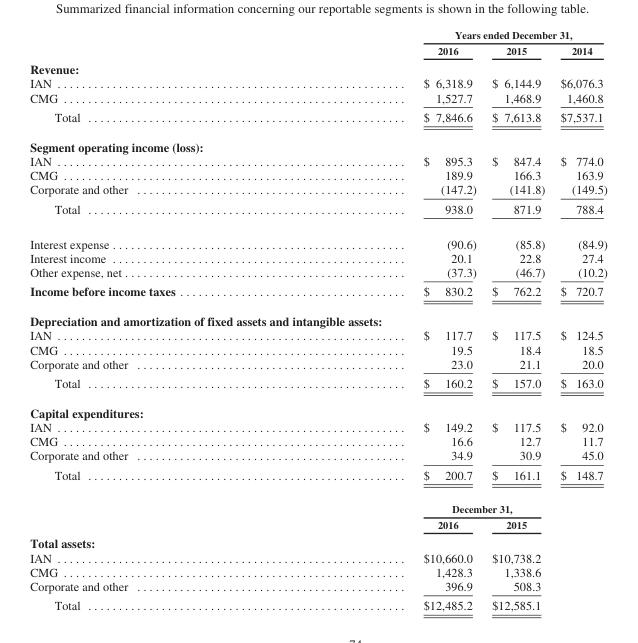table: (29, 28, 606, 612)
table column: (29, 28, 298, 612), (298, 28, 483, 612), (483, 28, 552, 612), (552, 28, 606, 612)
table column header: (29, 28, 606, 58)
table projected row header: (29, 305, 606, 328), (29, 131, 606, 153), (29, 397, 606, 419), (29, 58, 606, 76)
table row: (29, 464, 606, 492), (29, 198, 606, 225), (29, 225, 606, 250), (29, 107, 606, 131), (29, 281, 606, 305), (29, 373, 606, 397), (29, 492, 606, 516), (29, 305, 606, 328), (29, 131, 606, 153), (29, 397, 606, 419), (29, 58, 606, 76), (29, 90, 606, 107), (29, 264, 606, 281), (29, 356, 606, 373), (29, 516, 606, 533), (29, 533, 606, 550), (29, 578, 606, 595), (29, 595, 606, 612), (29, 42, 606, 58), (29, 182, 606, 198), (29, 448, 606, 464), (29, 167, 606, 182), (29, 433, 606, 448), (29, 28, 606, 42), (29, 76, 606, 90), (29, 153, 606, 167), (29, 250, 606, 264), (29, 328, 606, 342), (29, 342, 606, 356), (29, 419, 606, 433), (29, 550, 606, 564), (29, 564, 606, 578)
table spanning cell: (298, 492, 552, 516), (298, 28, 606, 42)
